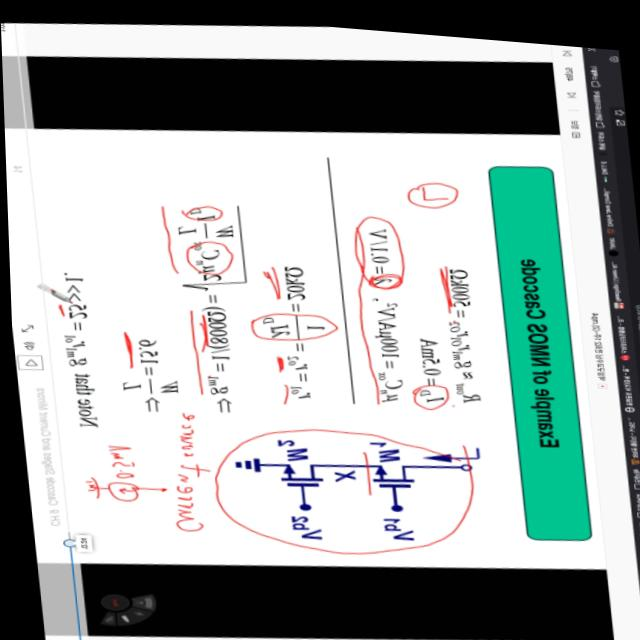panseo: (68, 394, 225, 549), (379, 156, 478, 219)
